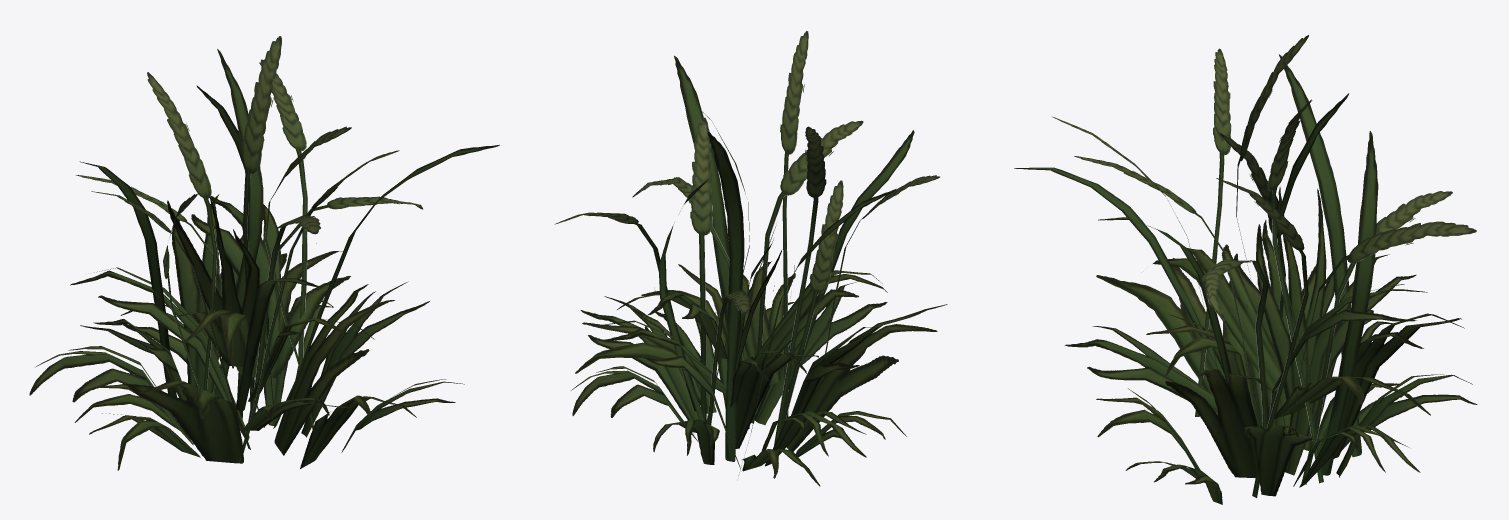
Rendered from cao2.FBX.
The picture shows the model from 3 angles, left to right: view 1: azimuth 30°, elevation 25°; view 2: azimuth 150°, elevation 25°; view 3: azimuth 270°, elevation 25°; orthographic projection. The views are drawn at different scales.
Visible parts, largest first — view 1: Mesh 1; view 2: Mesh 1; view 3: Mesh 1.
Boxes of the visible parts, x1,y1,x2,y2 form: Mesh 1: (29,36,499,470); Mesh 1: (554,31,947,486); Mesh 1: (1014,35,1477,504).
Size of the model in its own units: 1.69 by 1.71 by 1.82.
